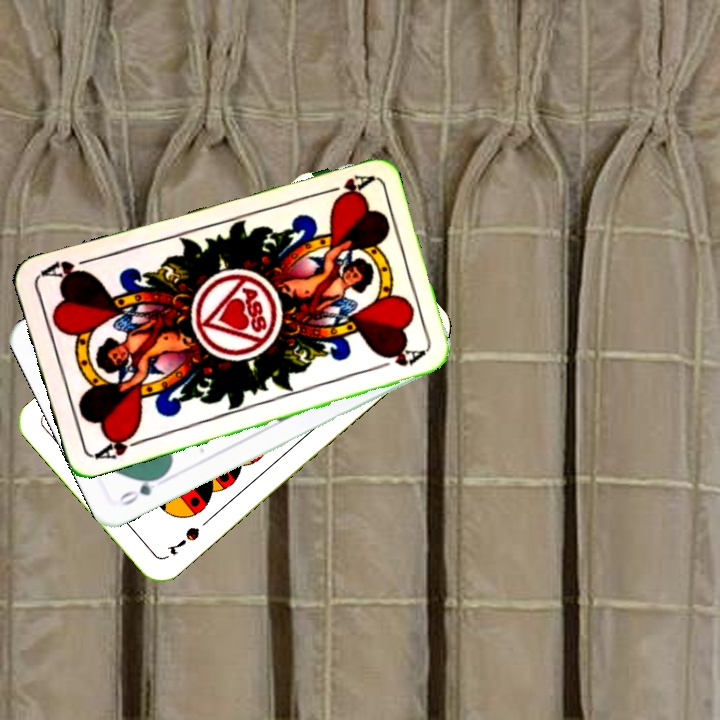GO: (115, 470, 167, 508)
HA: (90, 427, 148, 462), (316, 170, 374, 203)
S7: (163, 523, 203, 558)
